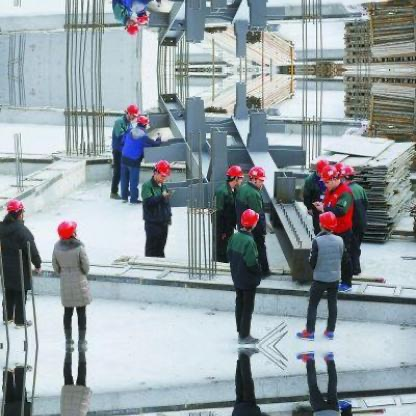Safety Helmet: (316, 164, 345, 195), (54, 218, 82, 246), (221, 163, 243, 192), (238, 207, 260, 234), (150, 157, 171, 185), (316, 209, 336, 237), (4, 198, 25, 224), (249, 166, 267, 191), (121, 101, 138, 122), (134, 113, 151, 131)
